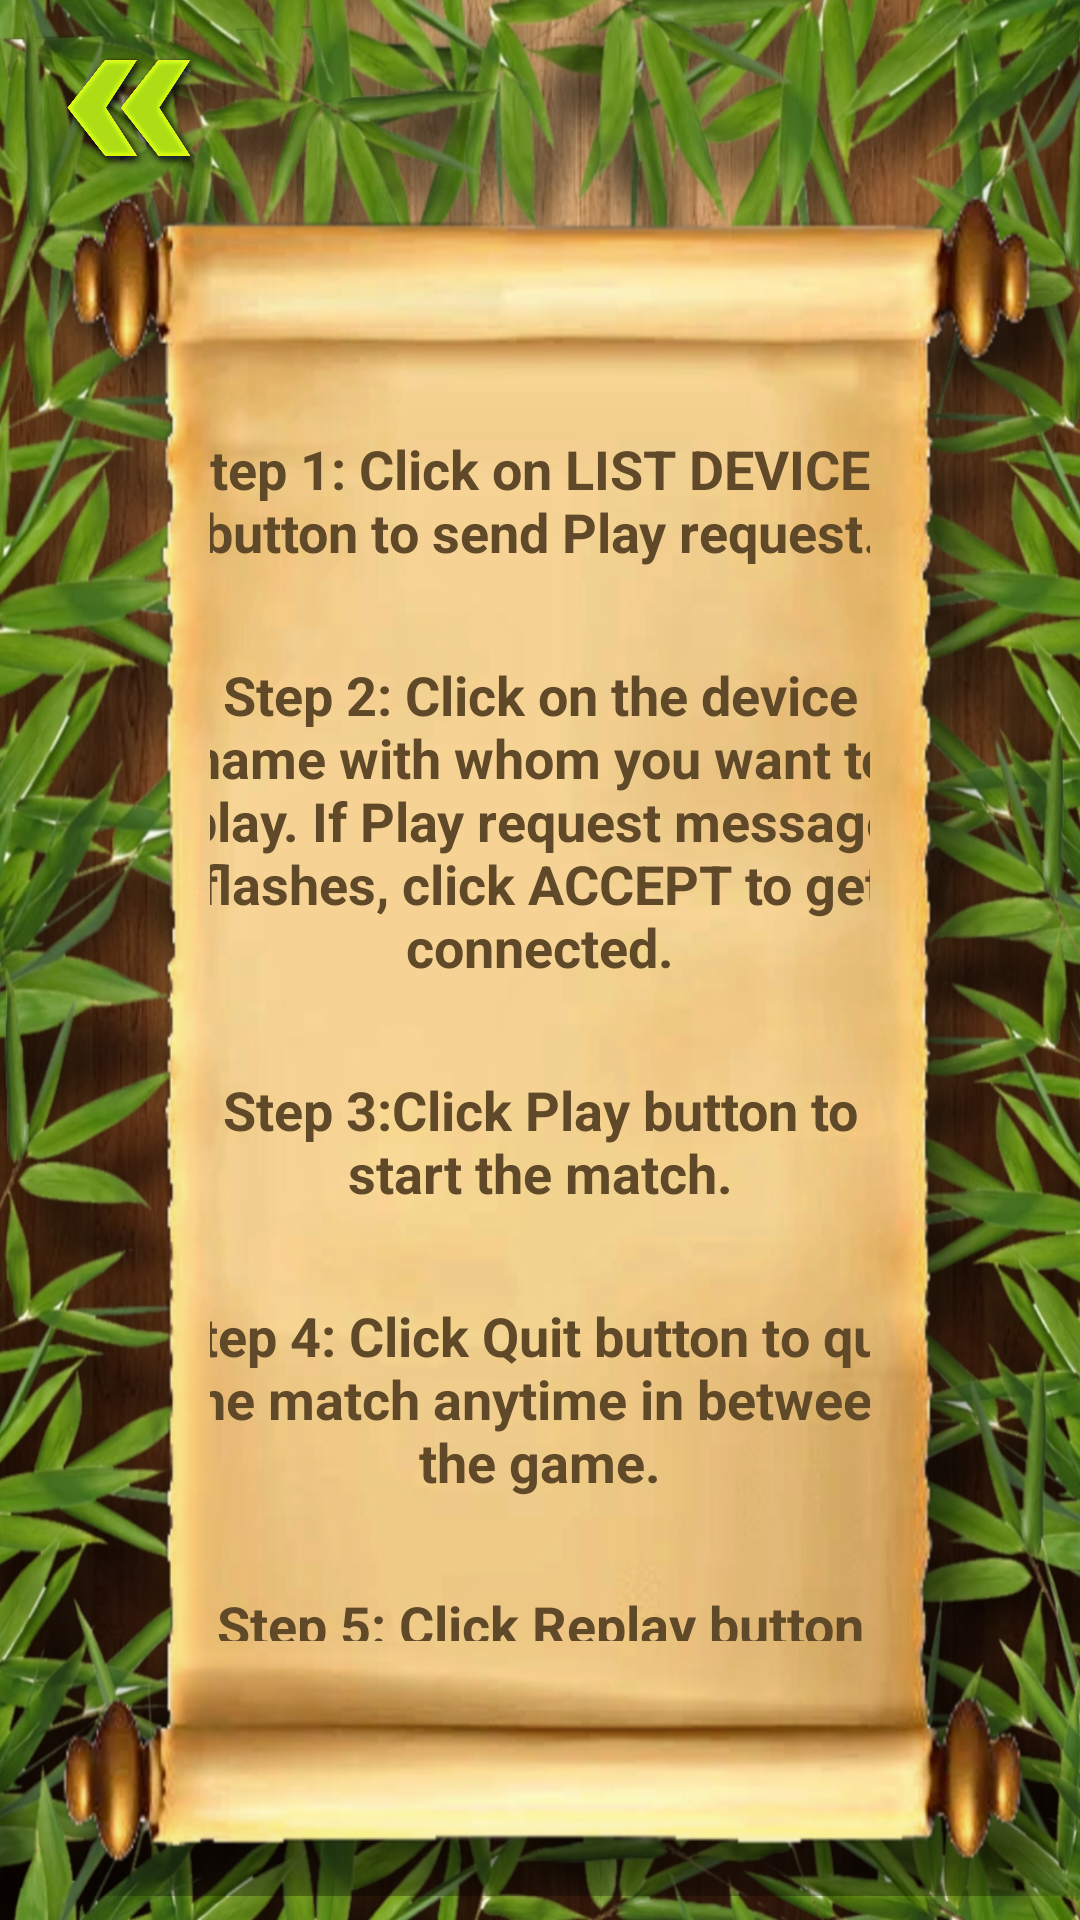

Where to tap for icons on this 1080px x 1920px app screen, as point (x, y):
Go back: point (129, 105)
